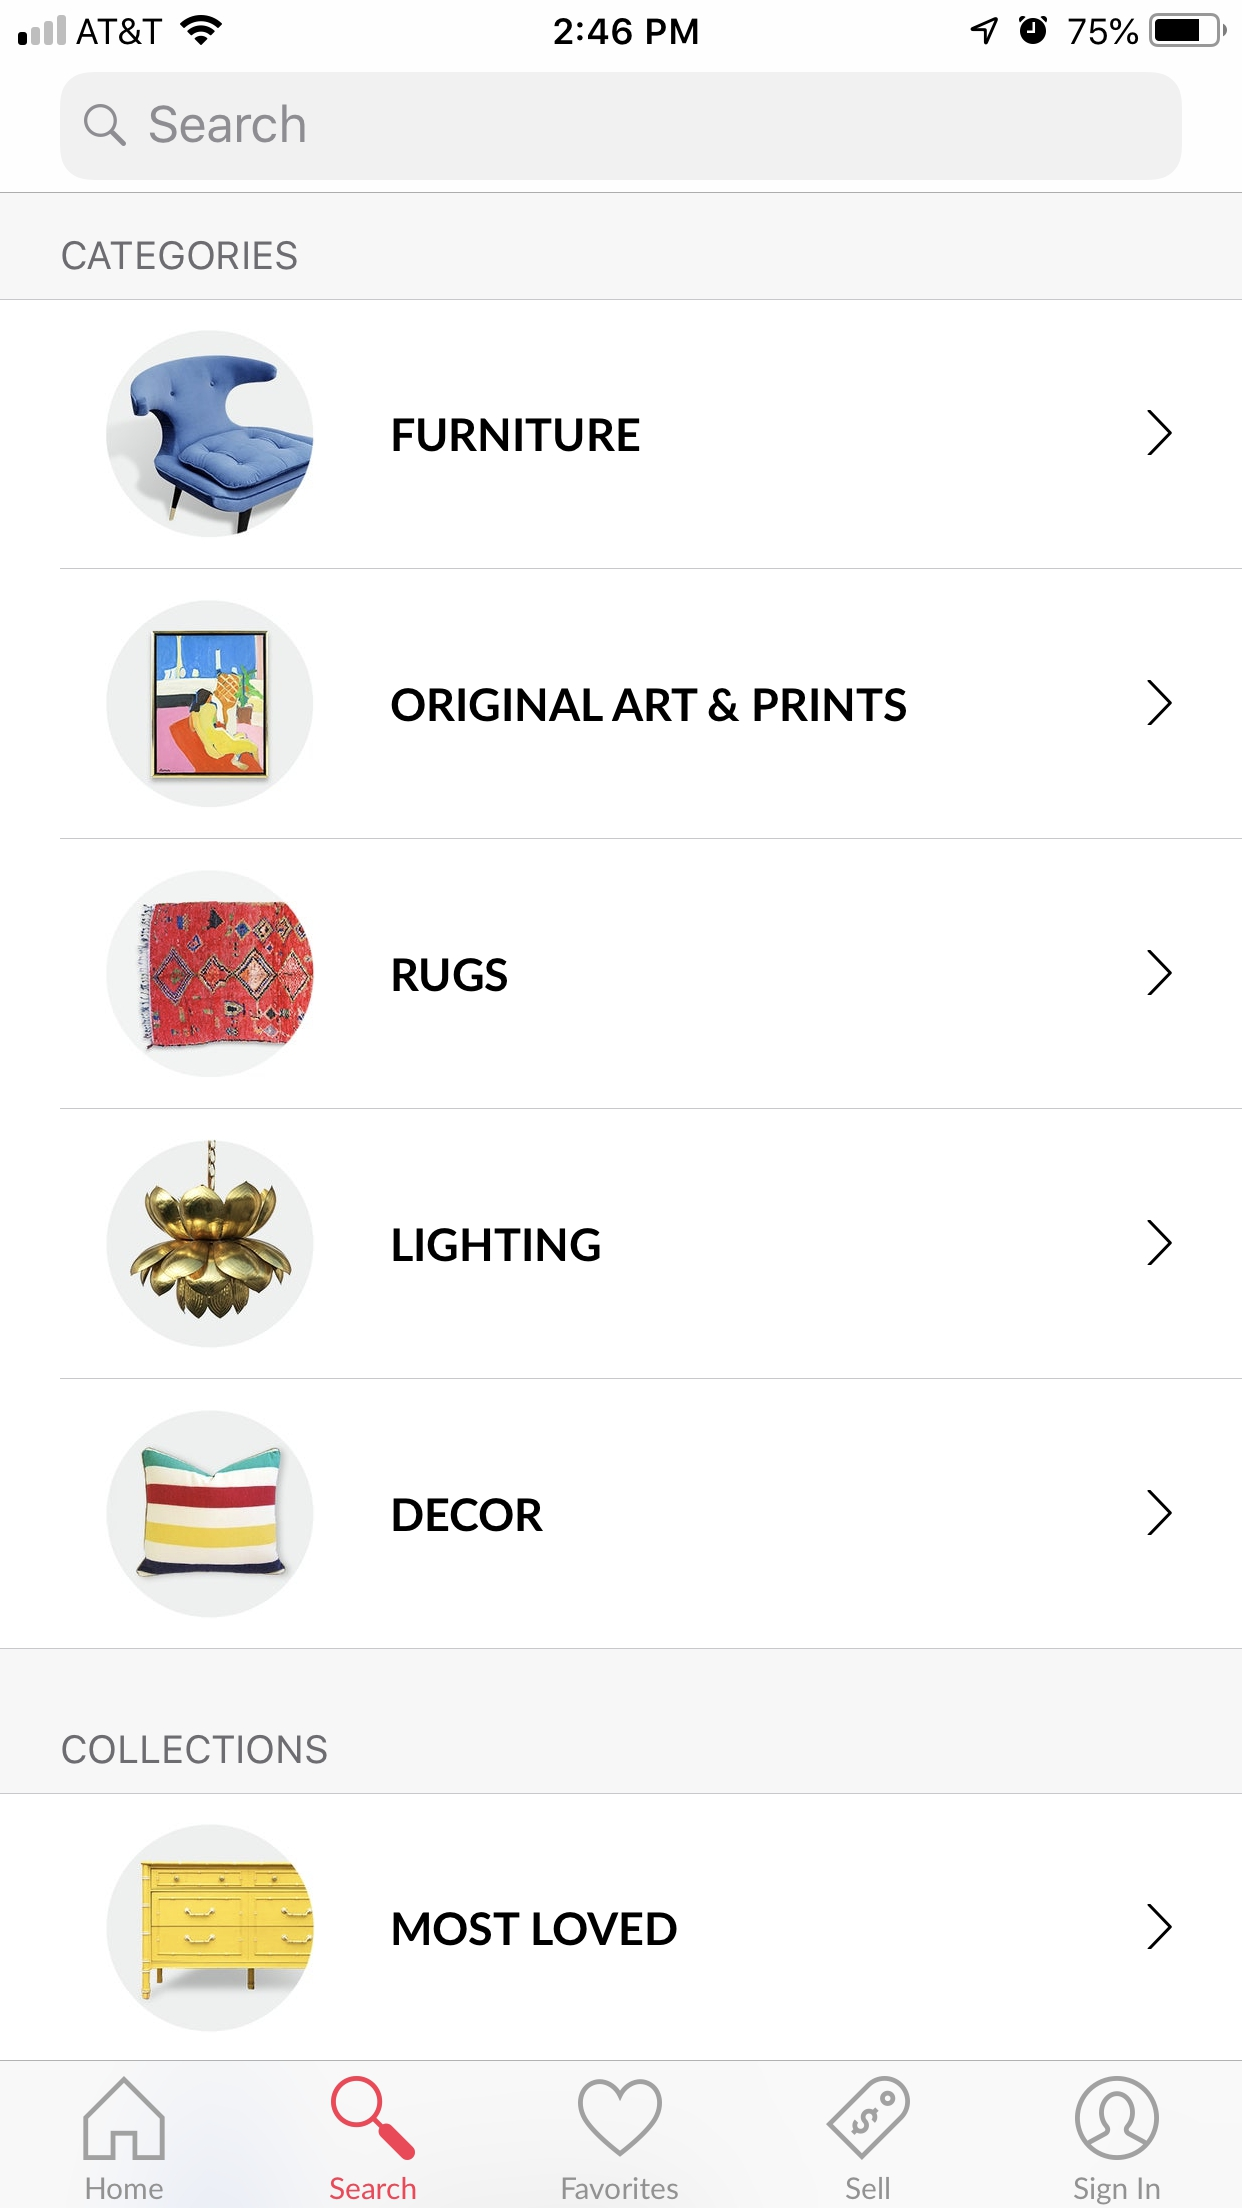EditText: (61, 73, 1181, 182)
Icon: (1074, 2075, 1160, 2161), (331, 2075, 416, 2161), (825, 2076, 911, 2161), (83, 2075, 167, 2161), (576, 2078, 663, 2156), (83, 105, 127, 147), (1146, 409, 1174, 456), (1146, 679, 1174, 726), (1146, 949, 1174, 996), (1146, 1219, 1174, 1266), (1146, 1491, 1174, 1536), (1146, 1905, 1174, 1950)
Image: (106, 869, 315, 1078), (106, 1139, 315, 1348), (106, 331, 315, 538), (108, 1410, 315, 1620), (108, 1823, 315, 2032), (106, 601, 314, 808)
Text: (391, 688, 907, 723), (393, 1911, 678, 1946), (393, 419, 640, 453), (61, 1733, 328, 1765), (393, 1228, 601, 1263), (62, 241, 299, 271), (150, 105, 306, 144), (393, 1497, 544, 1532), (393, 958, 510, 993), (563, 2176, 679, 2200), (1074, 2175, 1162, 2205), (331, 2176, 417, 2200), (86, 2176, 165, 2200), (845, 2176, 890, 2200)
UpperTaskBar: (2, 2, 1242, 49)
